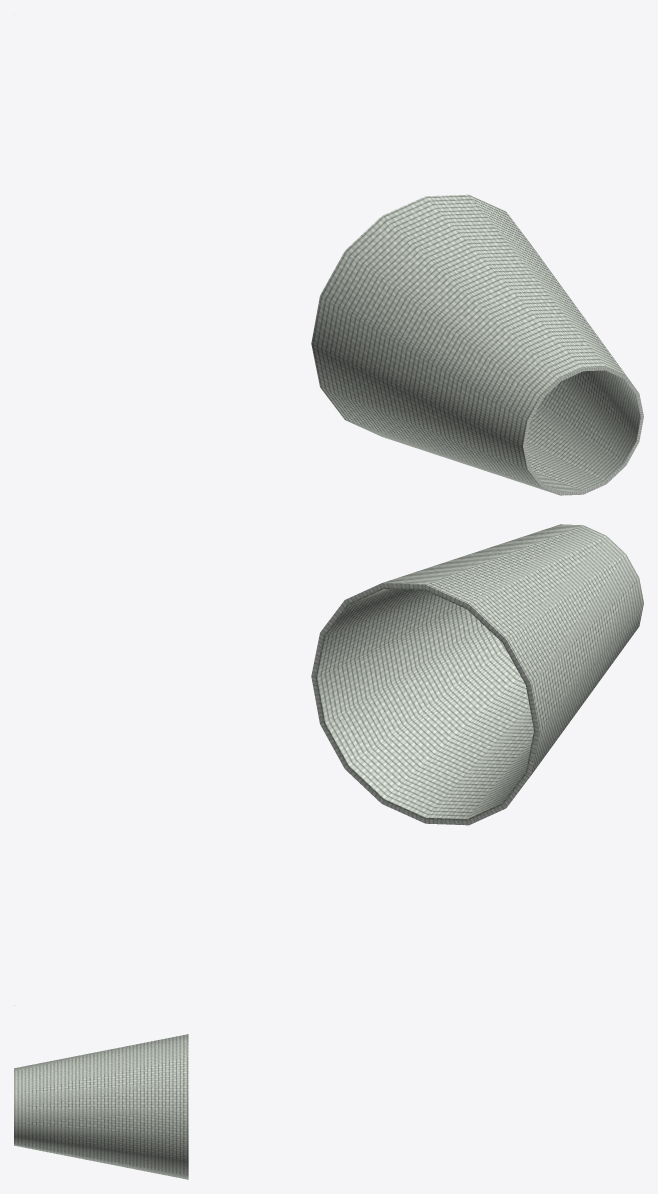
File: MeshFloorLamp_25_0_GeomSubset_2.obj
The picture shows the model from 3 angles, top to bottom: view 1: azimuth 30°, elevation 25°; view 2: azimuth 150°, elevation 25°; view 3: azimuth 270°, elevation 25°; orthographic projection. The views are drawn at different scales.
Parts seen in each view (by area): view 1: MeshFloorLamp_25_0_GeomSubset_2; view 2: MeshFloorLamp_25_0_GeomSubset_2; view 3: MeshFloorLamp_25_0_GeomSubset_2.
Boxes of the visible parts, x1,y1,x2,y2 form: MeshFloorLamp_25_0_GeomSubset_2: (14, 14, 643, 495); MeshFloorLamp_25_0_GeomSubset_2: (14, 524, 643, 1005); MeshFloorLamp_25_0_GeomSubset_2: (14, 1034, 188, 1179).
Size of the model in its own units: 0.4786 by 0.4786 by 2.07.
